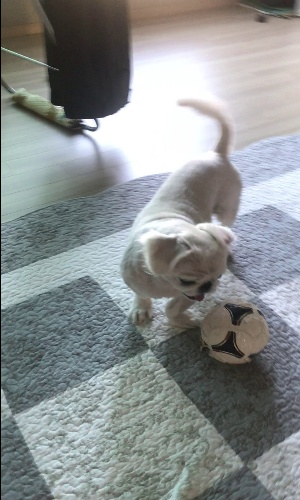ddubi: (115, 89, 243, 329)
